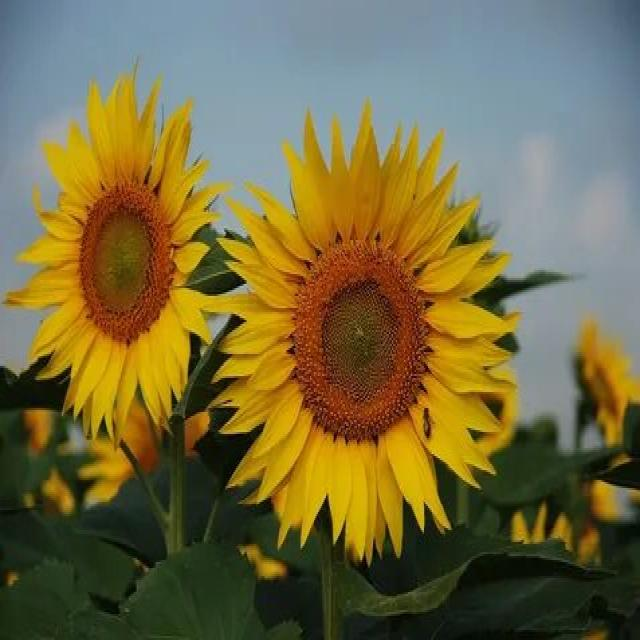sunflower: (213, 100, 526, 584), (24, 48, 226, 452)
